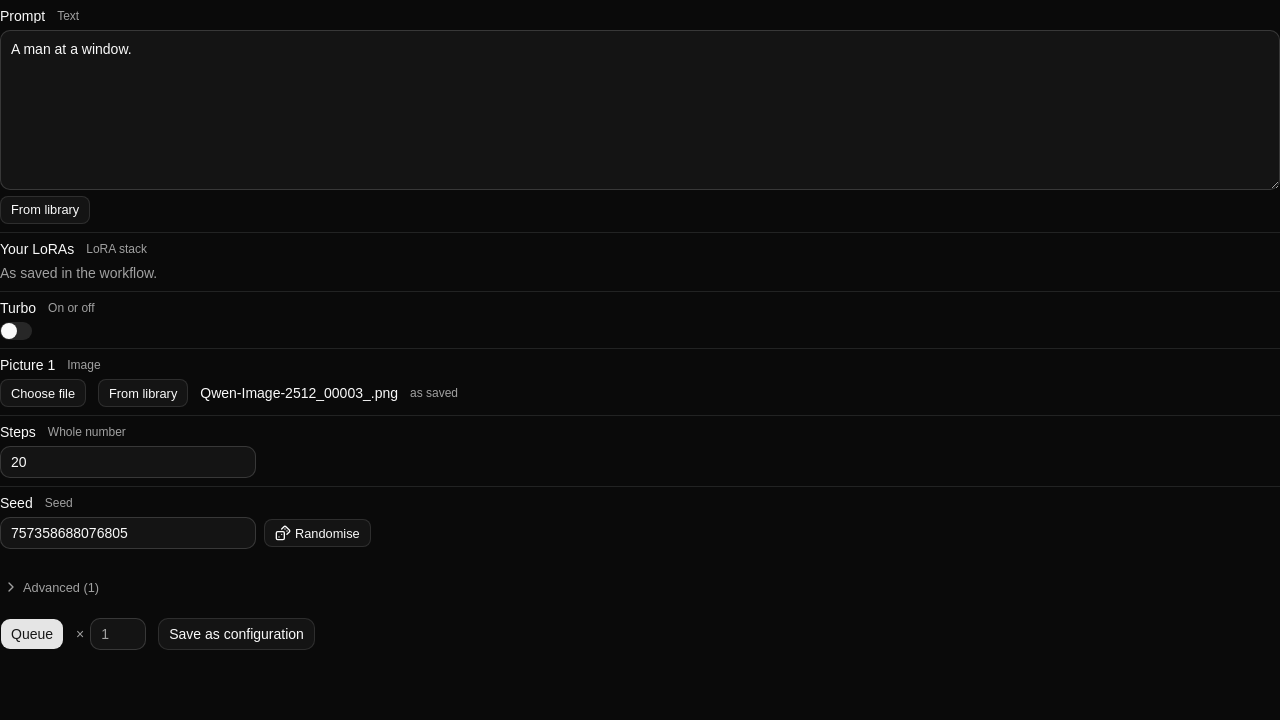
RunForm › keeps the dialog open with the reason when saving fails
Click the button "Save as configuration" at (236, 634), box [158,618,315,650]
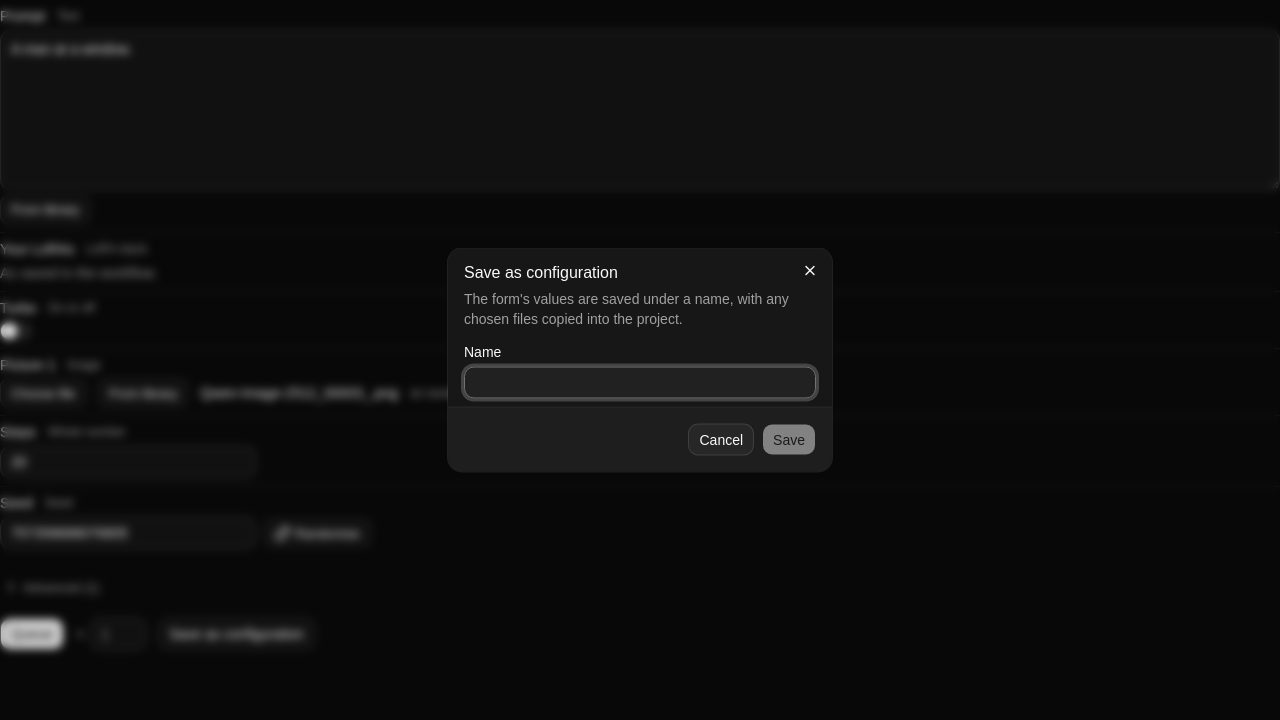
Type "Anna" into the field labelled "Name" at (640, 382), box [464,366,816,398]
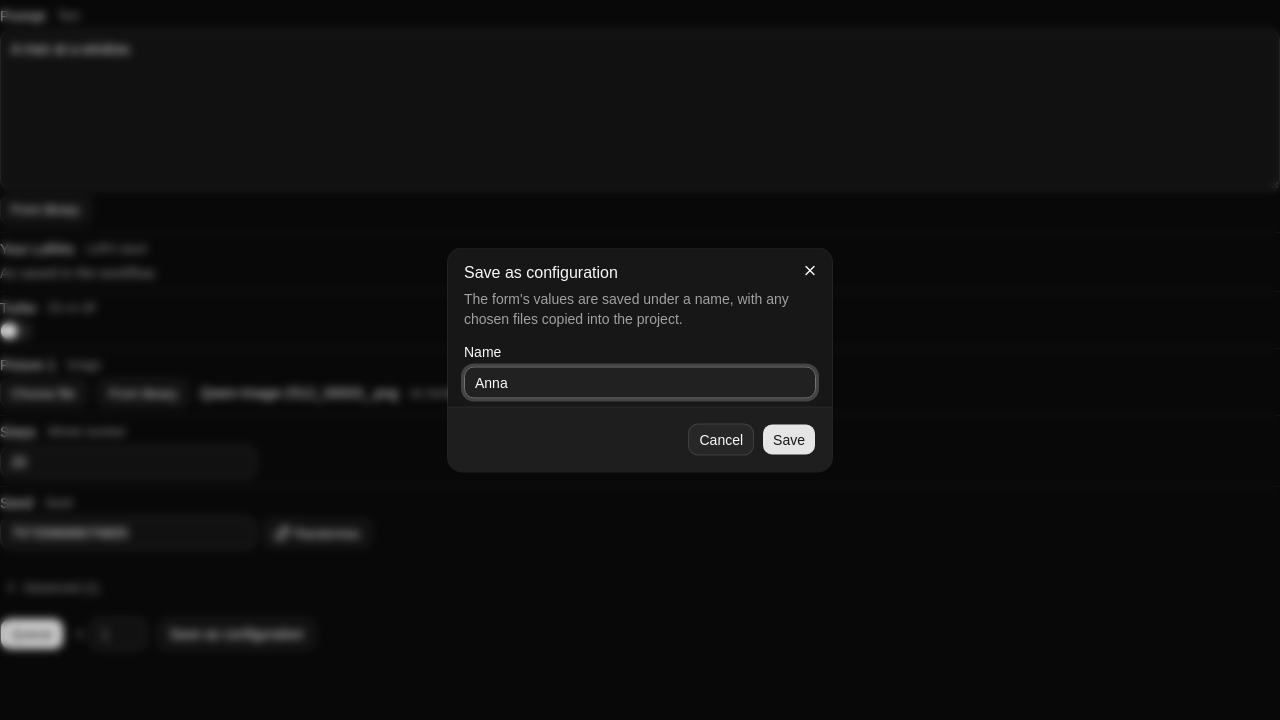
Click the button "Save" at (789, 440), box [762,424,816,456]
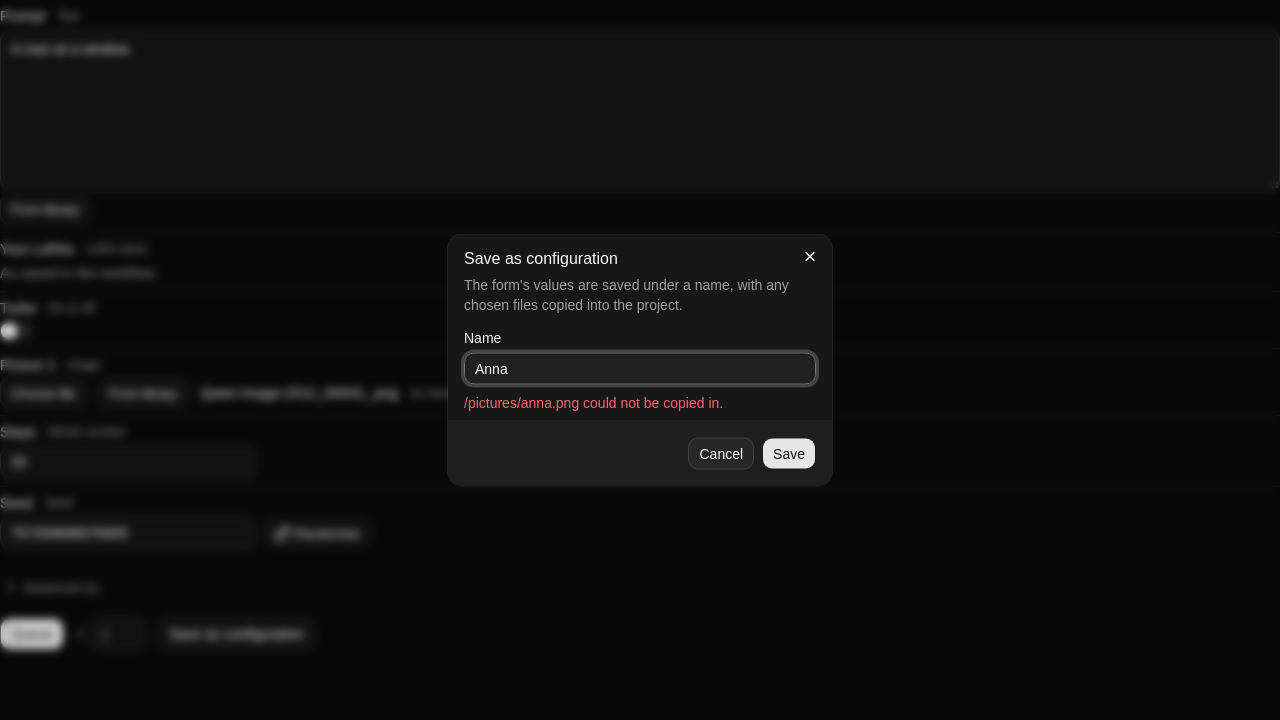
Expected: the text "/pictures/anna.png could not be copied in." is shown, [464,394,723,410]
